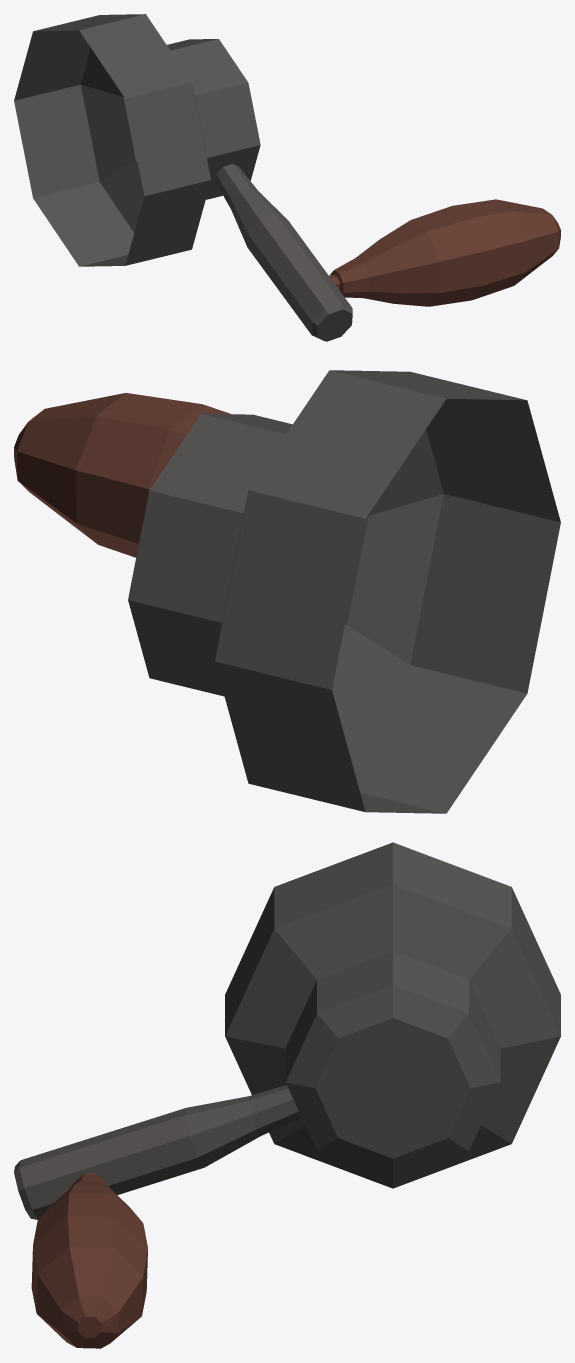
File: CashRegister_drawerHandle2.fbx
3 renders of one model, top to bottom at view 1: azimuth 30°, elevation 25°; view 2: azimuth 150°, elevation 25°; view 3: azimuth 270°, elevation 25°, orthographic. The views are drawn at different scales.
Visible parts, largest first — view 1: CashRegister_handle; view 2: CashRegister_handle; view 3: CashRegister_handle.
Boxes of the visible parts, x1,y1,x2,y2 form: CashRegister_handle: [14, 14, 560, 341]; CashRegister_handle: [14, 370, 560, 813]; CashRegister_handle: [14, 842, 560, 1348].
Size of the model in its own units: 70.07 by 45.12 by 71.7.
